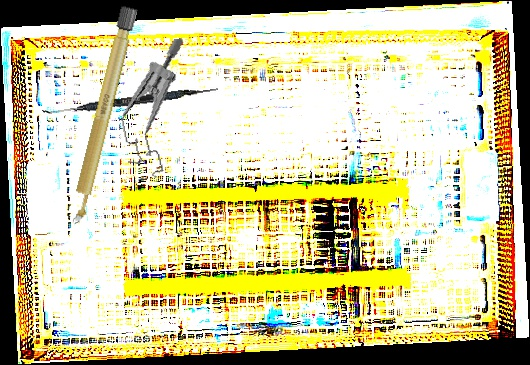Scalpel Handle: (66, 5, 138, 227)
Spatula Surgical: (42, 82, 219, 120)
Speculum: (104, 37, 210, 183)
